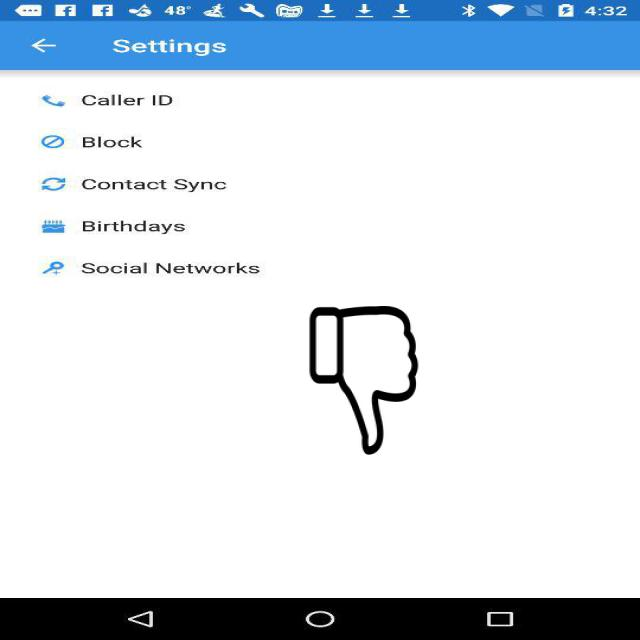obstruction: (308, 306, 420, 455)
